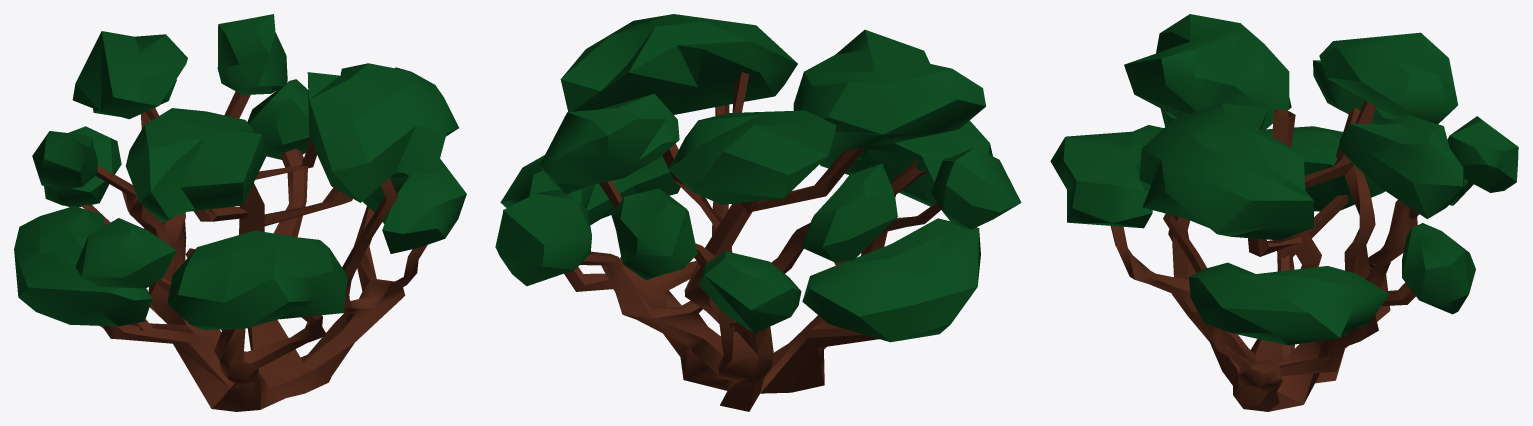
The model's file is Tree_7.fbx.
3 renders of one model, left to right at view 1: azimuth 30°, elevation 25°; view 2: azimuth 150°, elevation 25°; view 3: azimuth 270°, elevation 25°, orthographic. The views are drawn at different scales.
Parts seen in each view (by area): view 1: Tree_7; view 2: Tree_7; view 3: Tree_7.
Boxes of the visible parts, x1=… form: Tree_7: x1=14, y1=14, x2=466, y2=411; Tree_7: x1=495, y1=14, x2=1021, y2=411; Tree_7: x1=1050, y1=14, x2=1518, y2=411.
Bounding box in the file's own units: 250 × 178 × 242.
